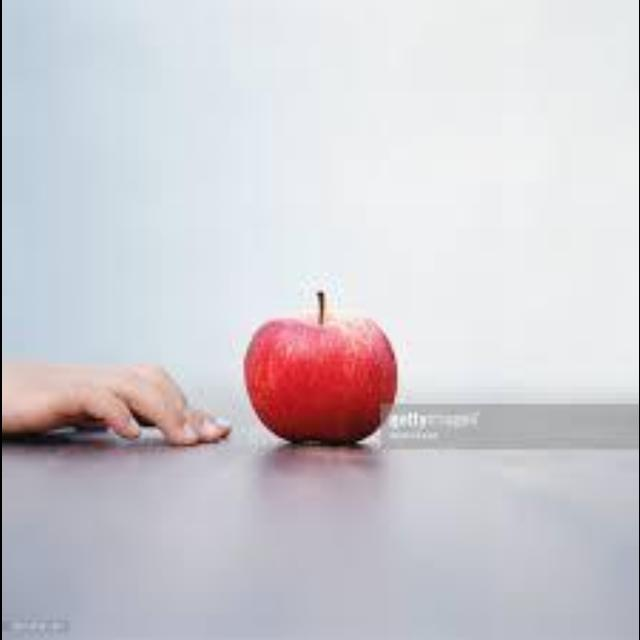apple: (243, 290, 394, 444)
